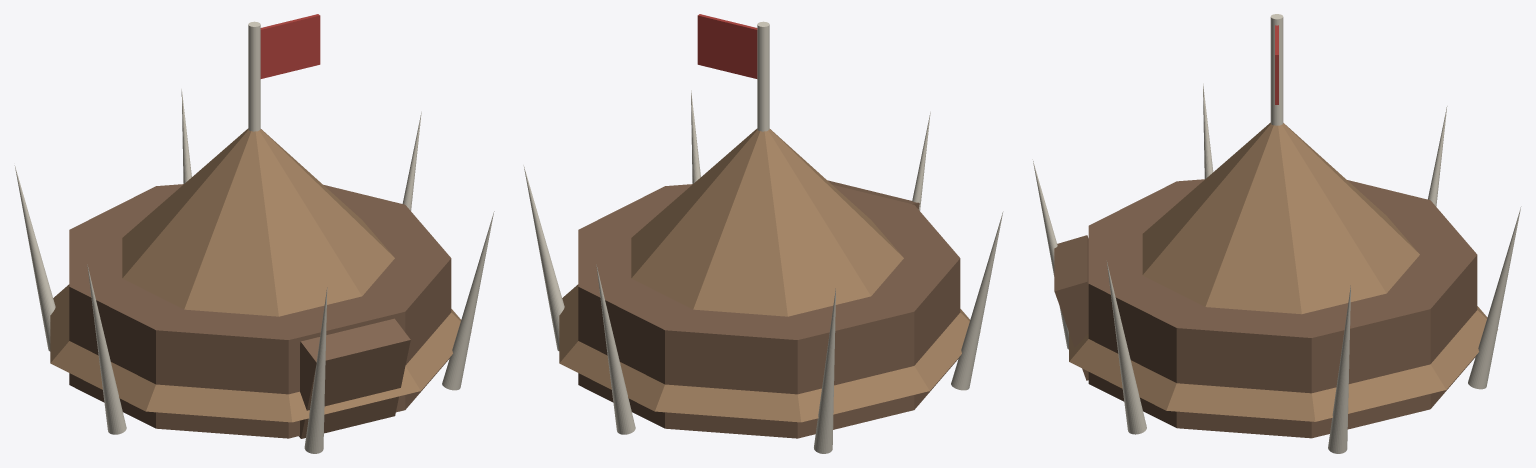
The model's file is wartent.glb.
3 views of the same model, side by side, from view 1: azimuth 30°, elevation 25°; view 2: azimuth 150°, elevation 25°; view 3: azimuth 270°, elevation 25° (orthographic).
Parts seen in each view (by area): view 1: Cone, Cylinder, Cube, Cube.001, Cone.006, Cone.004, Cone.005, Cone.003, Cylinder.001, Cone.001, Cone.002; view 2: Cone, Cylinder, Cube.001, Cone.004, Cone.002, Cone.003, Cone.001, Cylinder.001, Cone.005, Cone.006; view 3: Cone, Cylinder, Cube, Cone.002, Cone.006, Cone.001, Cylinder.001, Cone.005, Cone.003, Cone.004.
Boxes of the visible parts, x1=… form: Cone: x1=50, y1=128, x2=460, y2=422; Cylinder: x1=69, y1=184, x2=451, y2=438; Cube: x1=299, y1=318, x2=410, y2=438; Cube.001: x1=260, y1=14, x2=320, y2=78; Cone.006: x1=442, y1=211, x2=494, y2=390; Cone.004: x1=87, y1=264, x2=126, y2=434; Cone.005: x1=304, y1=287, x2=327, y2=453; Cone.003: x1=14, y1=165, x2=55, y2=351; Cylinder.001: x1=248, y1=21, x2=260, y2=131; Cone.001: x1=402, y1=112, x2=421, y2=210; Cone.002: x1=181, y1=89, x2=191, y2=183; Cone: x1=559, y1=128, x2=980, y2=422; Cylinder: x1=578, y1=184, x2=960, y2=438; Cube.001: x1=697, y1=14, x2=757, y2=78; Cone.004: x1=951, y1=211, x2=1003, y2=390; Cone.002: x1=596, y1=264, x2=635, y2=434; Cone.003: x1=814, y1=288, x2=835, y2=453; Cone.001: x1=523, y1=165, x2=564, y2=350; Cylinder.001: x1=757, y1=21, x2=769, y2=131; Cone.005: x1=912, y1=112, x2=930, y2=210; Cone.006: x1=691, y1=90, x2=700, y2=183; Cone: x1=1069, y1=122, x2=1497, y2=421; Cylinder: x1=1088, y1=179, x2=1477, y2=438; Cube: x1=1054, y1=235, x2=1088, y2=380; Cone.002: x1=1468, y1=206, x2=1521, y2=389; Cone.006: x1=1106, y1=261, x2=1146, y2=434; Cone.001: x1=1328, y1=285, x2=1350, y2=453; Cylinder.001: x1=1270, y1=14, x2=1283, y2=125; Cone.005: x1=1032, y1=159, x2=1068, y2=349; Cone.003: x1=1428, y1=106, x2=1447, y2=206; Cone.004: x1=1203, y1=83, x2=1213, y2=178.
Bounding box in the file's own units: 6.93 × 5.59 × 7.07.
